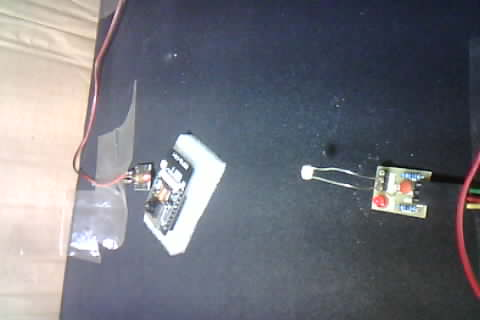esp32: (140, 131, 218, 248)
